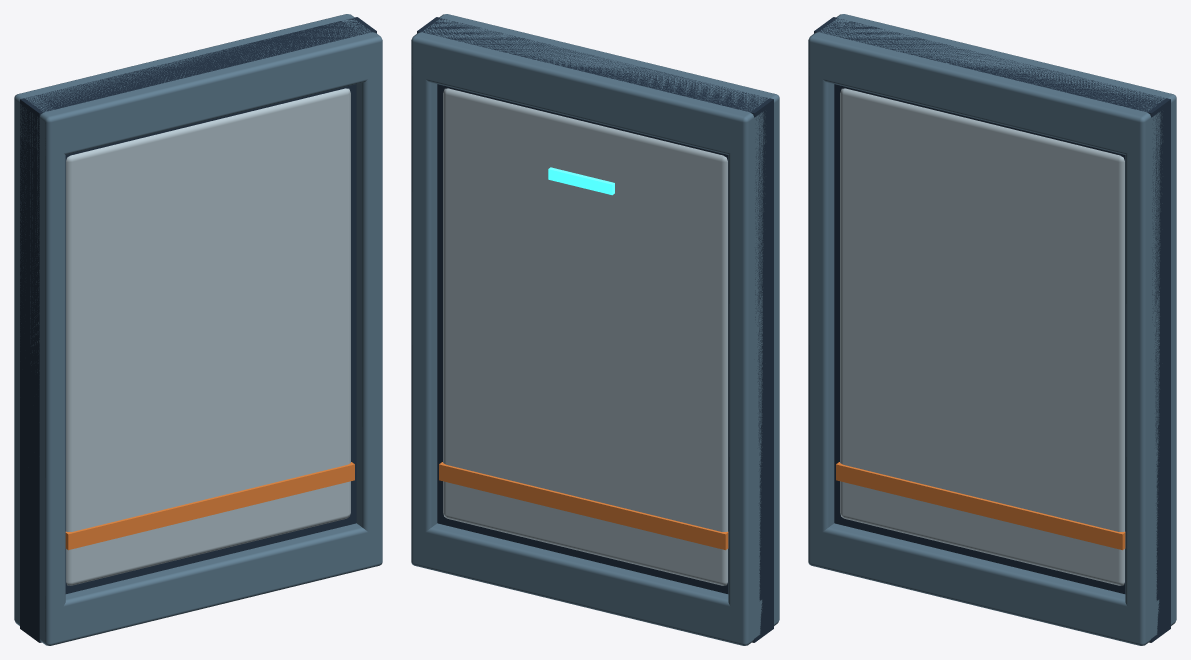
File: wall-panel.glb
3 views of the same model, side by side, from view 1: azimuth 30°, elevation 25°; view 2: azimuth 150°, elevation 25°; view 3: azimuth 330°, elevation 25° (orthographic).
Visible parts, largest first — view 1: panel, wall, rail-2.88, post--0.94, rail-0.12, post-0.94, stripe; view 2: panel, rail-2.88, wall, post--0.94, rail-0.12, post-0.94, stripe, status; view 3: panel, rail-2.88, wall, post-0.94, rail-0.12, post--0.94, stripe.
Boxes of the visible parts, x1,y1,x2,y2 form: panel: [66, 88, 350, 585]; wall: [20, 17, 376, 642]; rail-2.88: [14, 14, 382, 156]; post--0.94: [14, 91, 65, 623]; rail-0.12: [14, 523, 382, 645]; post-0.94: [335, 14, 382, 568]; stripe: [65, 462, 354, 550]; panel: [443, 88, 727, 585]; rail-2.88: [411, 14, 779, 155]; wall: [417, 17, 773, 642]; post--0.94: [728, 91, 779, 641]; rail-0.12: [411, 523, 779, 645]; post-0.94: [411, 14, 458, 568]; stripe: [439, 462, 728, 550]; status: [548, 167, 614, 195]; panel: [840, 88, 1124, 585]; rail-2.88: [808, 14, 1176, 155]; wall: [814, 17, 1170, 642]; post-0.94: [1125, 91, 1176, 641]; rail-0.12: [808, 523, 1176, 645]; post--0.94: [808, 14, 855, 568]; stripe: [836, 462, 1125, 550].
Bounding box in the file's own units: 2 × 3 × 0.36.
